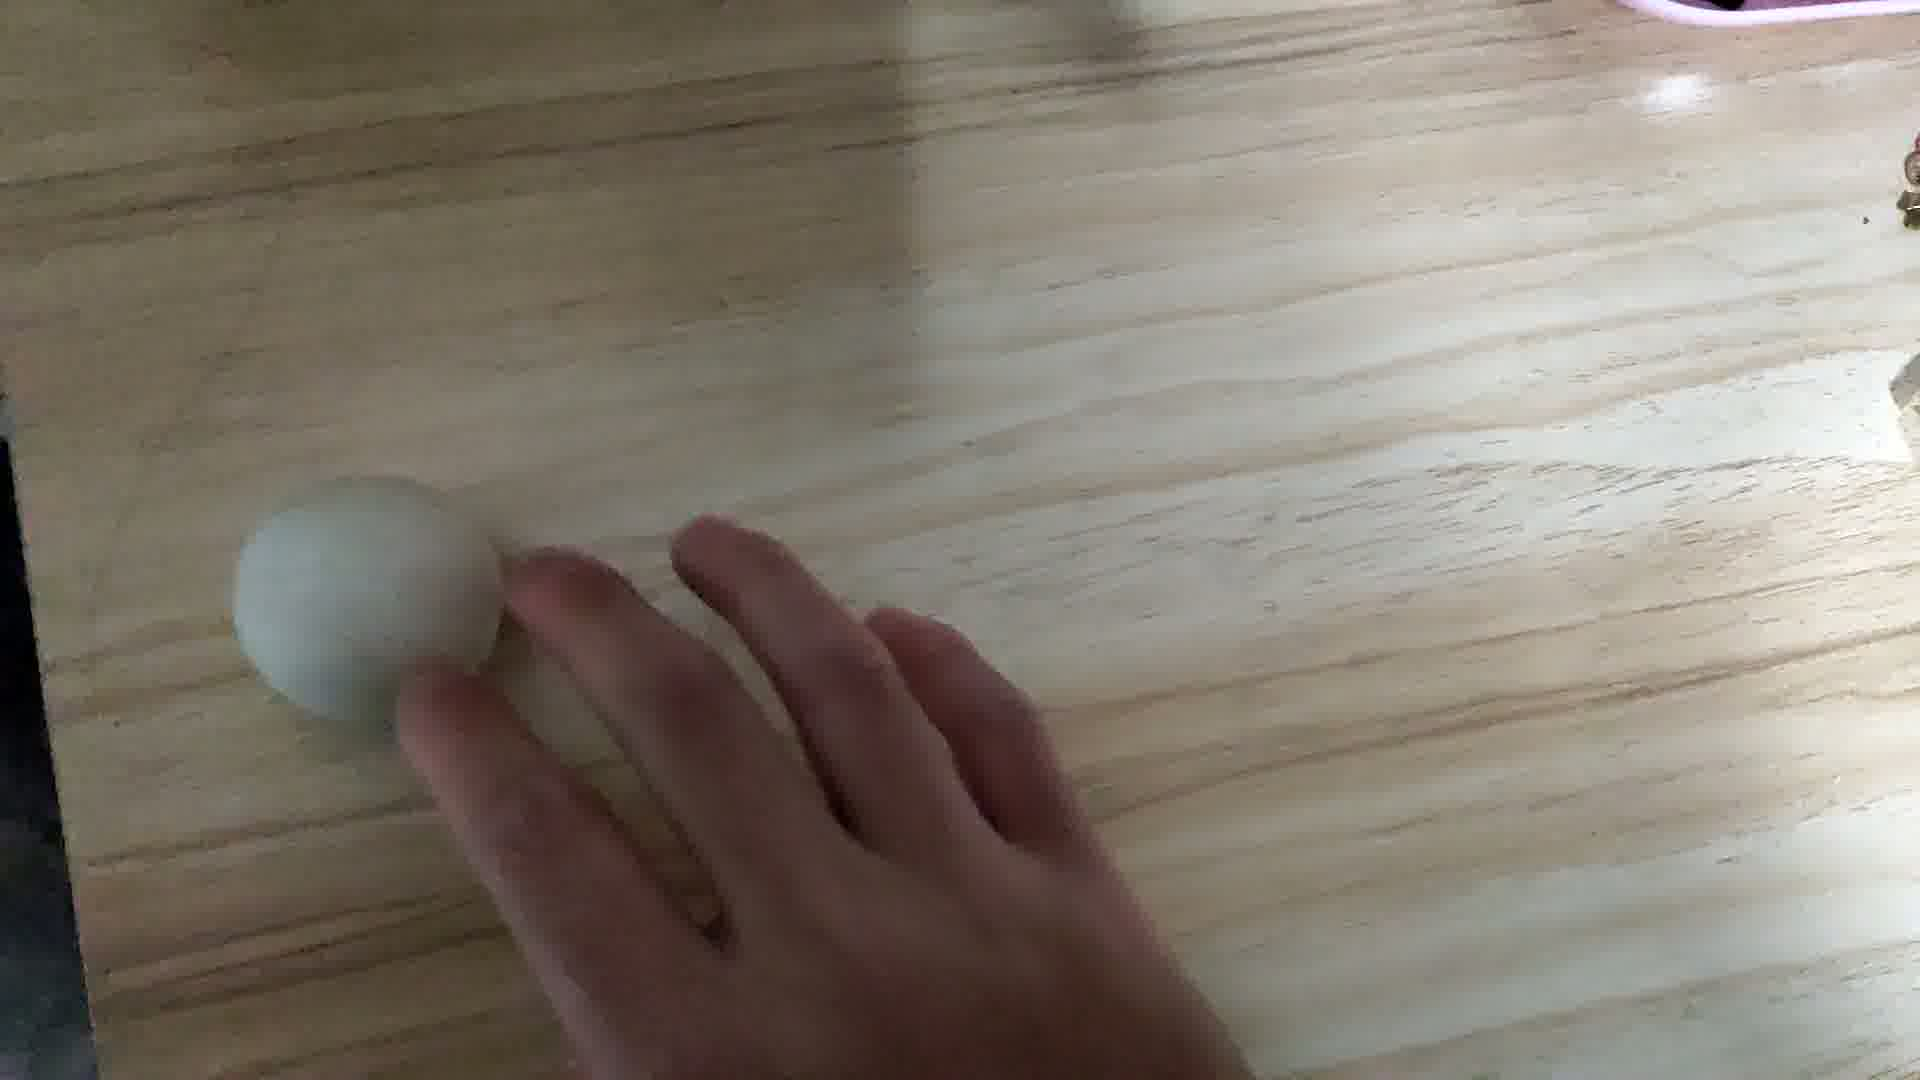Ball: (229, 477, 506, 727)
